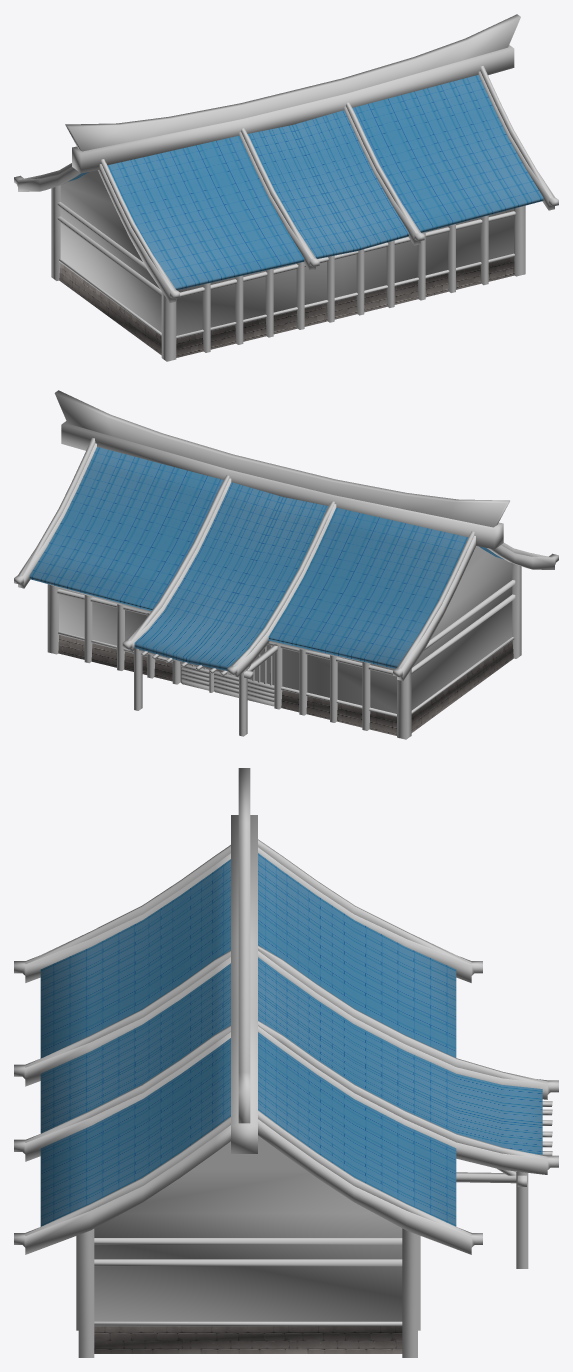
Rendered from Building_6.fbx.
3 renders of one model, top to bottom at view 1: azimuth 30°, elevation 25°; view 2: azimuth 150°, elevation 25°; view 3: azimuth 270°, elevation 25°, orthographic. The views are drawn at different scales.
Parts seen in each view (by area): view 1: Building_6; view 2: Building_6; view 3: Building_6.
Part boxes in pixels (x1=…): Building_6: x1=14, y1=14, x2=558, y2=361; Building_6: x1=14, y1=390, x2=558, y2=739; Building_6: x1=14, y1=768, x2=558, y2=1357.
Size of the model in its own units: 14.05 by 6.09 by 9.98.
